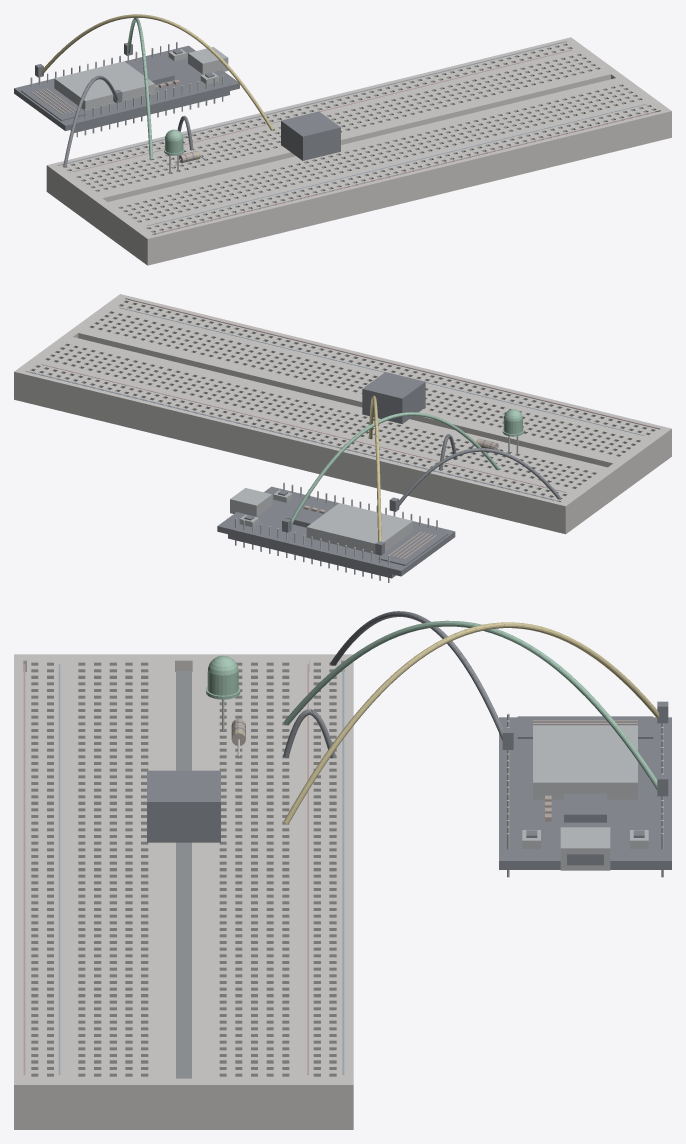
File: step-8.glb
3 renders of one model, top to bottom at view 1: azimuth 30°, elevation 25°; view 2: azimuth 150°, elevation 25°; view 3: azimuth 270°, elevation 25°, orthographic. The views are drawn at different scales.
Visible parts, largest first — view 1: breadboard__mesh, uno__mesh, button__mesh, button_signal__mesh, led_signal__mesh, ground_feed__mesh, green_led__mesh; view 2: breadboard__mesh, uno__mesh, button__mesh, led_signal__mesh, ground_feed__mesh, button_signal__mesh, green_led__mesh; view 3: breadboard__mesh, uno__mesh, button__mesh, button_signal__mesh, led_signal__mesh, ground_feed__mesh, green_led__mesh.
Part boxes in pixels (left/top/right/bottom): breadboard__mesh: left=46, top=37, right=671, bottom=265; uno__mesh: left=14, top=42, right=239, bottom=137; button__mesh: left=281, top=111, right=340, bottom=160; button_signal__mesh: left=35, top=14, right=273, bottom=130; led_signal__mesh: left=124, top=18, right=153, bottom=159; ground_feed__mesh: left=63, top=75, right=122, bottom=167; green_led__mesh: left=164, top=129, right=184, bottom=173; breadboard__mesh: left=14, top=294, right=671, bottom=534; uno__mesh: left=217, top=482, right=455, bottom=582; button__mesh: left=362, top=372, right=425, bottom=424; led_signal__mesh: left=282, top=412, right=499, bottom=532; ground_feed__mesh: left=389, top=448, right=560, bottom=511; button_signal__mesh: left=368, top=395, right=384, bottom=555; green_led__mesh: left=502, top=409, right=524, bottom=454; breadboard__mesh: left=14, top=654, right=353, bottom=1129; uno__mesh: left=499, top=713, right=671, bottom=877; button__mesh: left=147, top=770, right=220, bottom=842; button_signal__mesh: left=283, top=622, right=668, bottom=824; led_signal__mesh: left=283, top=620, right=668, bottom=796; ground_feed__mesh: left=330, top=611, right=513, bottom=749; green_led__mesh: left=206, top=655, right=240, bottom=730.
Bounding box in the file's own units: 0.165 × 0.0341 × 0.1065.
